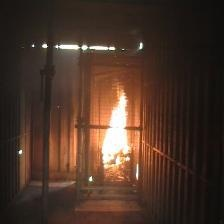fire: (100, 84, 143, 178)
